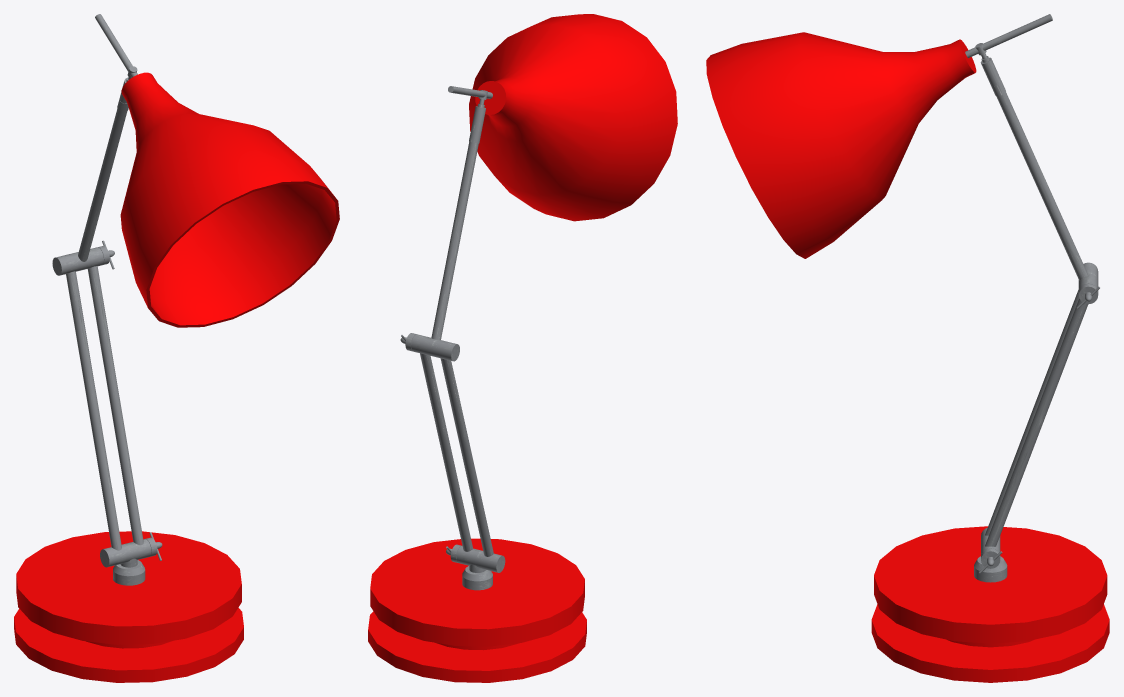
The model's file is lamp-bureaucrat.obj.
3 views of the same model, side by side, from view 1: azimuth 30°, elevation 25°; view 2: azimuth 150°, elevation 25°; view 3: azimuth 270°, elevation 25° (orthographic). The views are drawn at different scales.
Parts seen in each view (by area): view 1: pCylinder11, pCylinder1, pCylinder6, pCylinder5, pCylinder9, pCylinder3, pCylinder7, pCylinder2, pCylinder10; view 2: pCylinder11, pCylinder1, pCylinder9, pCylinder5, pCylinder6, pCylinder7, pCylinder3, pCylinder2; view 3: pCylinder11, pCylinder1, pCylinder6, pCylinder9, pCylinder5, pCylinder10, pCylinder7.
Boxes of the visible parts, left/top/right/bottom form: pCylinder11: left=120, top=72, right=339, bottom=327; pCylinder1: left=14, top=531, right=243, bottom=682; pCylinder6: left=87, top=266, right=143, bottom=545; pCylinder5: left=66, top=271, right=121, bottom=550; pCylinder9: left=78, top=66, right=137, bottom=261; pCylinder3: left=100, top=537, right=157, bottom=567; pCylinder7: left=52, top=246, right=109, bottom=275; pCylinder2: left=113, top=558, right=145, bottom=585; pCylinder10: left=95, top=14, right=137, bottom=77; pCylinder11: left=469, top=14, right=677, bottom=221; pCylinder1: left=368, top=538, right=586, bottom=682; pCylinder9: left=431, top=90, right=487, bottom=339; pCylinder5: left=440, top=358, right=493, bottom=556; pCylinder6: left=420, top=353, right=472, bottom=551; pCylinder7: left=405, top=333, right=459, bottom=361; pCylinder3: left=450, top=544, right=505, bottom=572; pCylinder2: left=462, top=564, right=492, bottom=590; pCylinder11: left=706, top=32, right=976, bottom=258; pCylinder1: left=871, top=526, right=1109, bottom=682; pCylinder6: left=985, top=298, right=1088, bottom=546; pCylinder9: left=975, top=43, right=1087, bottom=280; pCylinder5: left=985, top=290, right=1079, bottom=535; pCylinder10: left=965, top=14, right=1052, bottom=58; pCylinder7: left=1078, top=262, right=1098, bottom=304.
Bounding box in the file's own units: 1.42 × 4.06 × 2.4.
11 materials, 10 textured.
